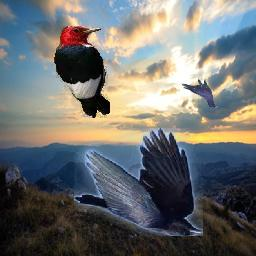Crow: (75, 128, 204, 236), (182, 76, 219, 108)
Woodpecker: (52, 26, 110, 118)
